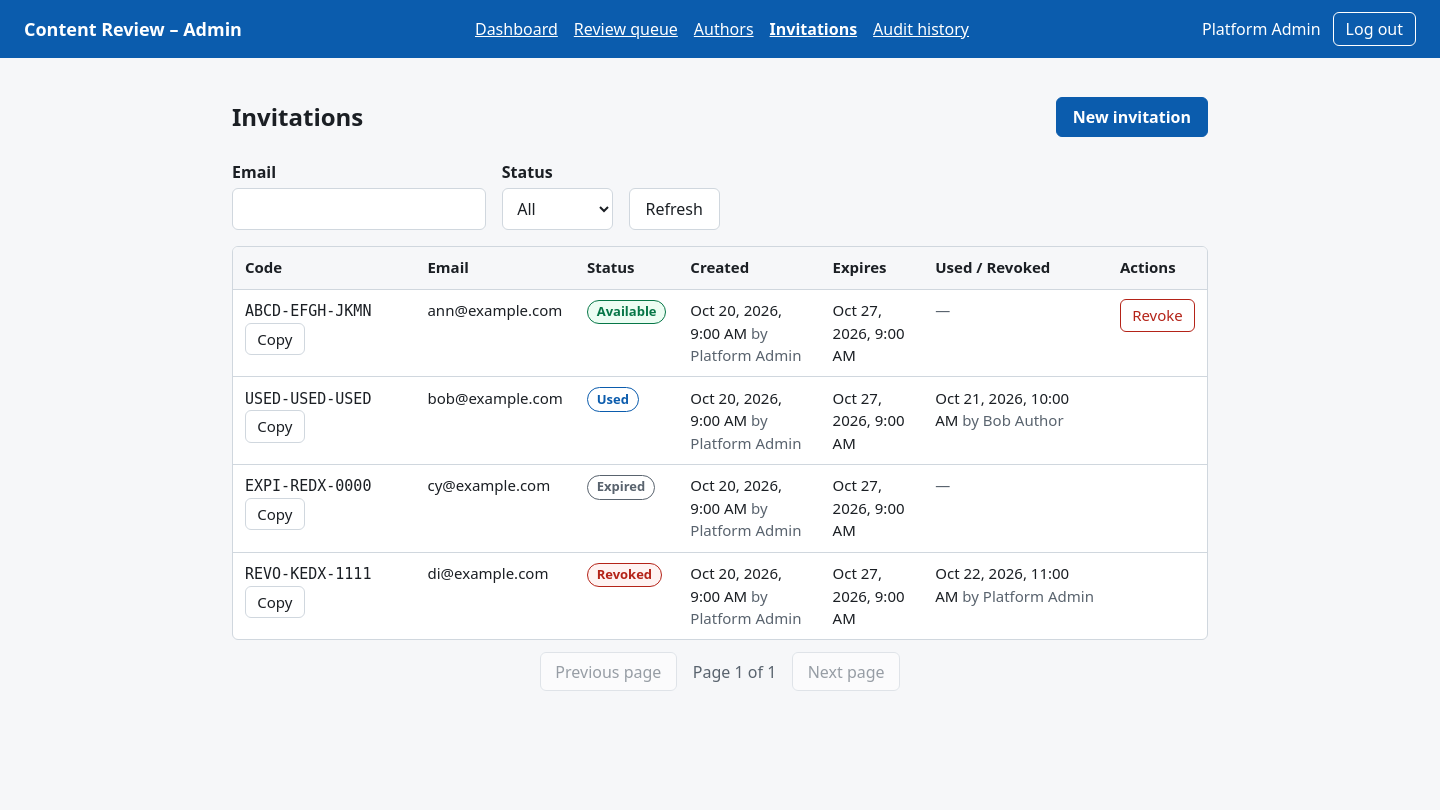
Test case: copy › says so when the clipboard is not available
Expected: the heading "Invitations" is shown, [232, 102, 363, 132]
Expected: the table is shown, [233, 247, 1207, 639]
Step 1. Click the button with test id "invitation-copy-inv-available" → (275, 339), box [245, 323, 304, 355]
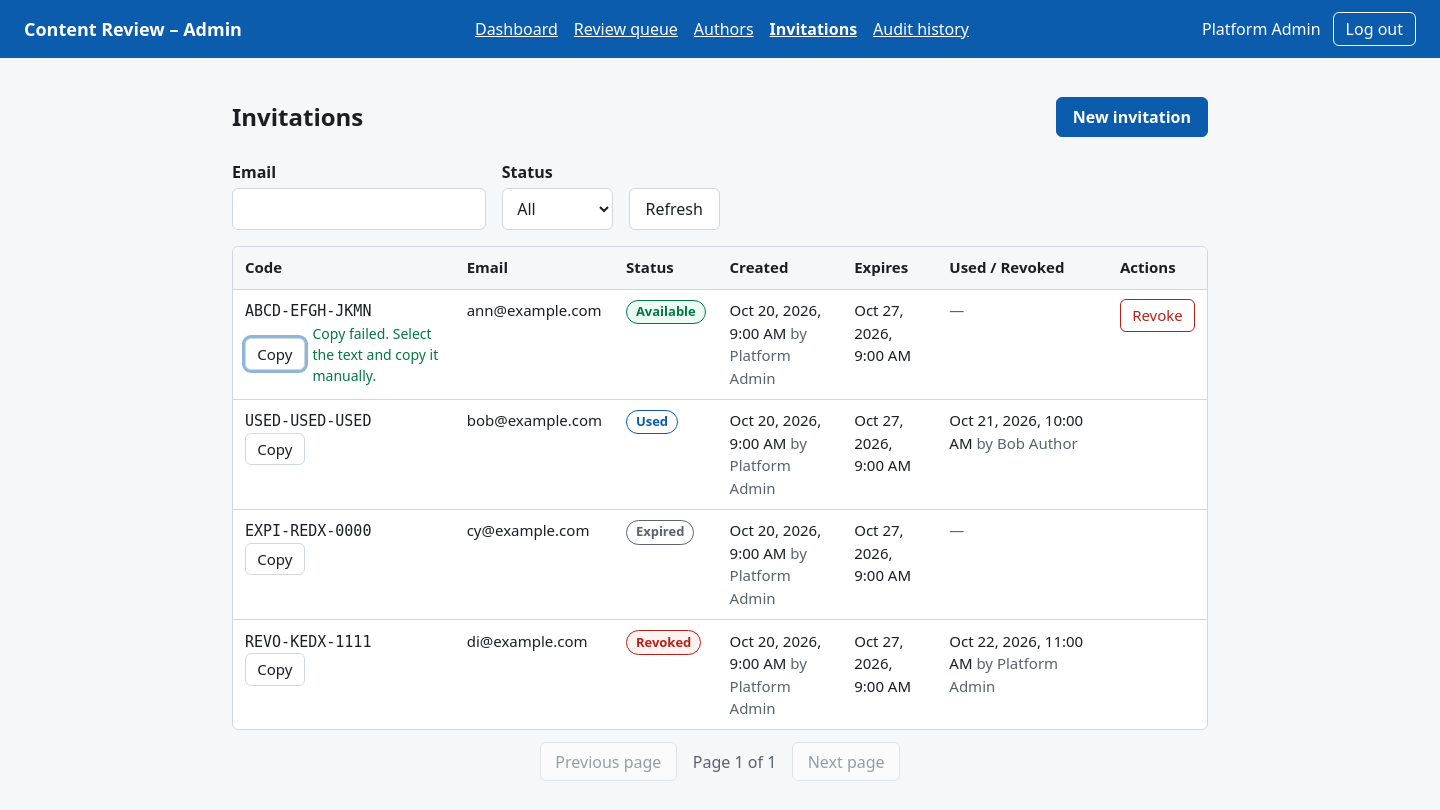
Now the text "Copy failed. Select the text and copy it manually." is shown, box [312, 323, 443, 386]
